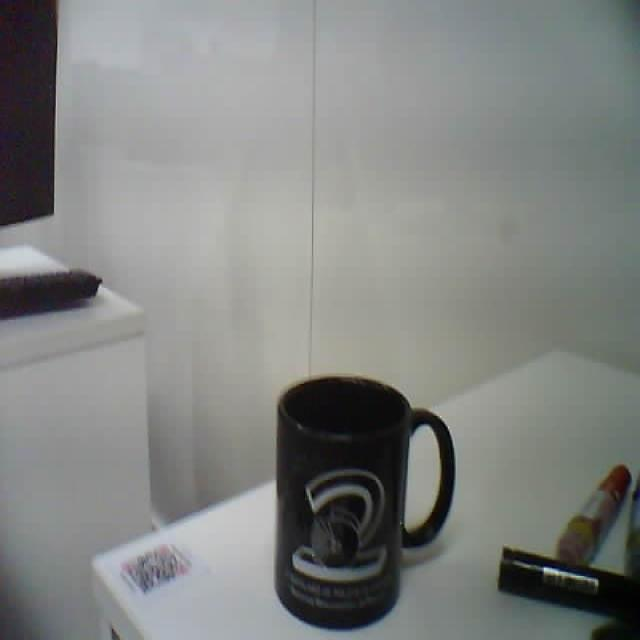caneca: (275, 377, 455, 628)
